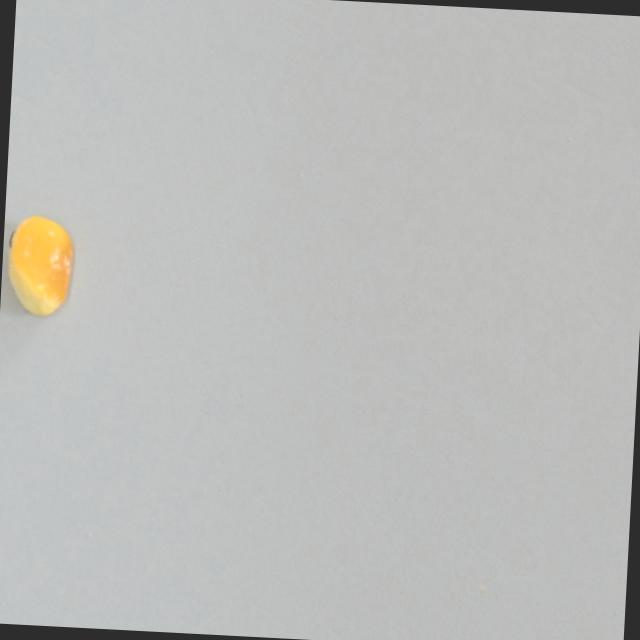punto_negro: (0, 211, 75, 322)
